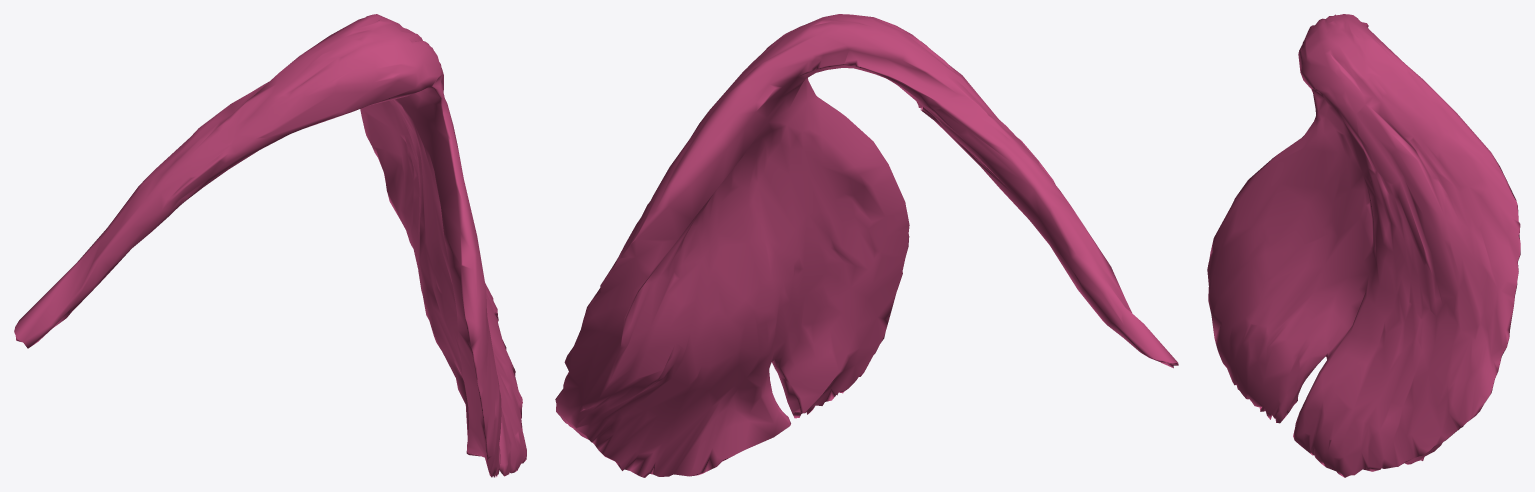
3 views of the same model, side by side, from view 1: azimuth 30°, elevation 25°; view 2: azimuth 150°, elevation 25°; view 3: azimuth 270°, elevation 25° (orthographic). The views are drawn at different scales.
Parts seen in each view (by area): view 1: 右侧闭孔内肌; view 2: 右侧闭孔内肌; view 3: 右侧闭孔内肌.
Boxes of the visible parts, box(x1,y1,x2,y2) form: 右侧闭孔内肌: box(14, 14, 526, 477); 右侧闭孔内肌: box(555, 14, 1178, 477); 右侧闭孔内肌: box(1207, 14, 1520, 477).
Size of the model in its own units: 0.144 by 0.1202 by 0.0881.
